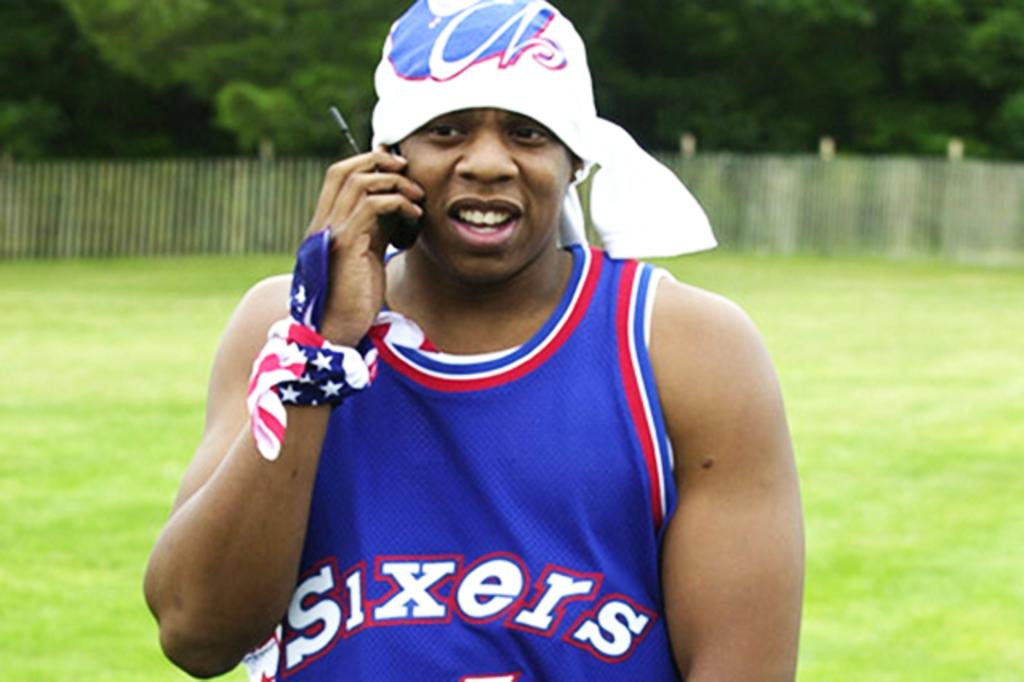face: (402, 50, 570, 274)
